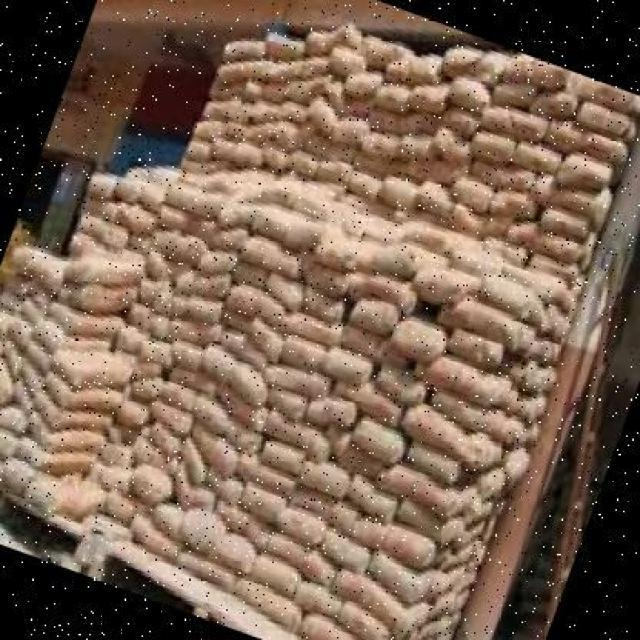gunny_bag: (329, 566, 408, 634), (198, 339, 270, 408), (231, 573, 302, 634), (264, 532, 338, 590), (425, 352, 498, 410), (401, 405, 477, 460), (543, 114, 622, 166), (375, 462, 450, 515), (351, 516, 430, 565), (331, 379, 403, 430), (289, 486, 360, 537), (223, 284, 289, 338), (170, 543, 239, 594), (497, 258, 563, 309), (264, 411, 329, 462), (249, 204, 319, 251), (449, 295, 517, 343), (201, 404, 261, 457), (213, 497, 274, 549), (234, 449, 296, 499), (365, 554, 421, 609), (351, 413, 410, 465), (443, 325, 500, 377), (479, 101, 548, 143), (190, 421, 240, 478), (340, 477, 400, 524), (563, 70, 636, 108), (493, 160, 552, 207), (347, 264, 410, 308), (209, 380, 263, 431), (246, 545, 299, 596), (175, 503, 225, 557), (437, 44, 504, 83), (390, 316, 446, 362), (295, 249, 351, 295), (555, 152, 613, 196), (410, 261, 463, 309), (212, 327, 268, 372), (399, 439, 459, 481), (127, 513, 177, 563), (205, 528, 256, 577), (317, 524, 370, 571), (237, 235, 296, 277), (275, 507, 327, 554), (163, 179, 222, 220), (334, 597, 389, 640), (295, 459, 348, 503), (331, 320, 386, 362), (394, 496, 443, 543), (477, 275, 533, 316), (431, 387, 484, 430), (237, 483, 286, 529), (372, 361, 423, 405), (398, 215, 451, 257), (189, 212, 249, 249), (170, 464, 217, 511), (92, 486, 142, 530), (266, 364, 332, 397), (348, 295, 401, 336), (258, 183, 320, 218), (125, 458, 172, 504), (338, 439, 383, 487), (539, 203, 592, 243), (445, 238, 502, 275), (364, 196, 409, 242), (290, 578, 338, 621), (311, 230, 360, 272), (303, 393, 358, 430), (507, 137, 559, 176), (284, 308, 336, 347), (529, 229, 582, 267), (277, 332, 327, 372), (171, 267, 229, 301), (151, 231, 204, 268), (294, 282, 343, 322), (575, 100, 629, 136), (260, 267, 303, 312), (264, 383, 310, 425), (318, 199, 371, 235), (499, 59, 567, 87), (450, 172, 494, 214), (145, 499, 186, 544), (467, 126, 516, 163), (27, 251, 67, 296), (154, 198, 200, 237), (30, 308, 68, 355), (321, 346, 372, 381), (297, 611, 358, 640), (524, 254, 577, 287), (165, 294, 223, 324), (255, 446, 305, 480), (549, 185, 600, 218), (158, 318, 216, 347), (412, 180, 453, 221), (162, 384, 210, 419), (377, 171, 418, 211), (447, 77, 489, 116), (166, 363, 216, 395), (438, 102, 479, 141), (152, 397, 193, 436), (368, 252, 415, 286), (211, 56, 268, 84), (445, 253, 487, 291), (148, 413, 181, 461), (112, 200, 157, 235), (20, 469, 61, 507), (202, 468, 244, 505), (0, 451, 36, 494), (178, 433, 206, 488), (396, 236, 445, 267), (185, 133, 237, 162), (89, 459, 133, 493), (394, 50, 442, 81), (488, 189, 536, 220), (142, 248, 182, 285), (446, 197, 487, 233), (202, 95, 251, 125), (73, 284, 129, 310), (359, 224, 404, 256), (245, 319, 280, 360), (215, 193, 255, 228), (80, 258, 138, 282), (65, 310, 118, 336), (135, 273, 172, 310), (8, 430, 46, 466), (430, 126, 468, 162), (328, 115, 366, 151), (123, 304, 163, 338), (464, 155, 505, 188), (25, 333, 54, 379), (169, 338, 204, 376), (422, 155, 466, 185), (383, 149, 424, 181), (230, 258, 267, 293), (192, 119, 243, 144), (533, 88, 578, 116), (333, 87, 370, 121), (193, 246, 236, 275), (33, 386, 59, 433), (51, 349, 83, 387), (489, 83, 537, 108), (262, 33, 306, 60), (303, 95, 336, 131), (75, 211, 113, 242), (19, 348, 44, 395), (42, 367, 72, 406), (327, 43, 361, 77), (343, 67, 379, 99), (217, 306, 253, 338), (356, 33, 394, 63), (267, 118, 301, 151), (398, 108, 438, 136), (81, 190, 117, 221), (346, 168, 382, 199), (241, 79, 285, 104), (501, 218, 536, 249), (255, 142, 291, 172), (27, 404, 53, 445), (9, 373, 35, 414), (25, 272, 53, 310), (220, 37, 268, 59), (396, 128, 430, 159), (409, 84, 448, 111), (360, 131, 399, 158), (198, 167, 237, 194), (15, 291, 44, 327), (114, 399, 150, 428), (371, 86, 411, 112), (351, 149, 388, 177), (333, 187, 374, 212), (136, 177, 168, 209), (230, 135, 262, 167), (368, 104, 401, 135), (110, 176, 145, 205), (7, 307, 30, 351), (283, 79, 318, 107), (1, 335, 24, 377), (282, 150, 319, 176), (97, 438, 134, 464), (293, 129, 325, 159), (114, 324, 150, 350), (315, 76, 345, 107), (126, 375, 159, 403), (0, 402, 26, 437), (276, 98, 307, 127), (174, 155, 203, 186), (303, 30, 336, 57), (261, 58, 303, 79), (299, 177, 337, 200), (86, 166, 116, 195), (313, 160, 348, 184), (67, 230, 98, 257), (332, 22, 363, 49), (209, 76, 245, 99), (246, 100, 281, 123), (231, 171, 271, 191), (321, 140, 357, 162), (129, 356, 163, 379), (239, 119, 270, 144), (269, 171, 304, 191), (0, 352, 12, 406), (482, 215, 509, 239), (297, 56, 327, 77), (125, 231, 154, 252), (0, 428, 18, 458), (0, 316, 10, 342)
